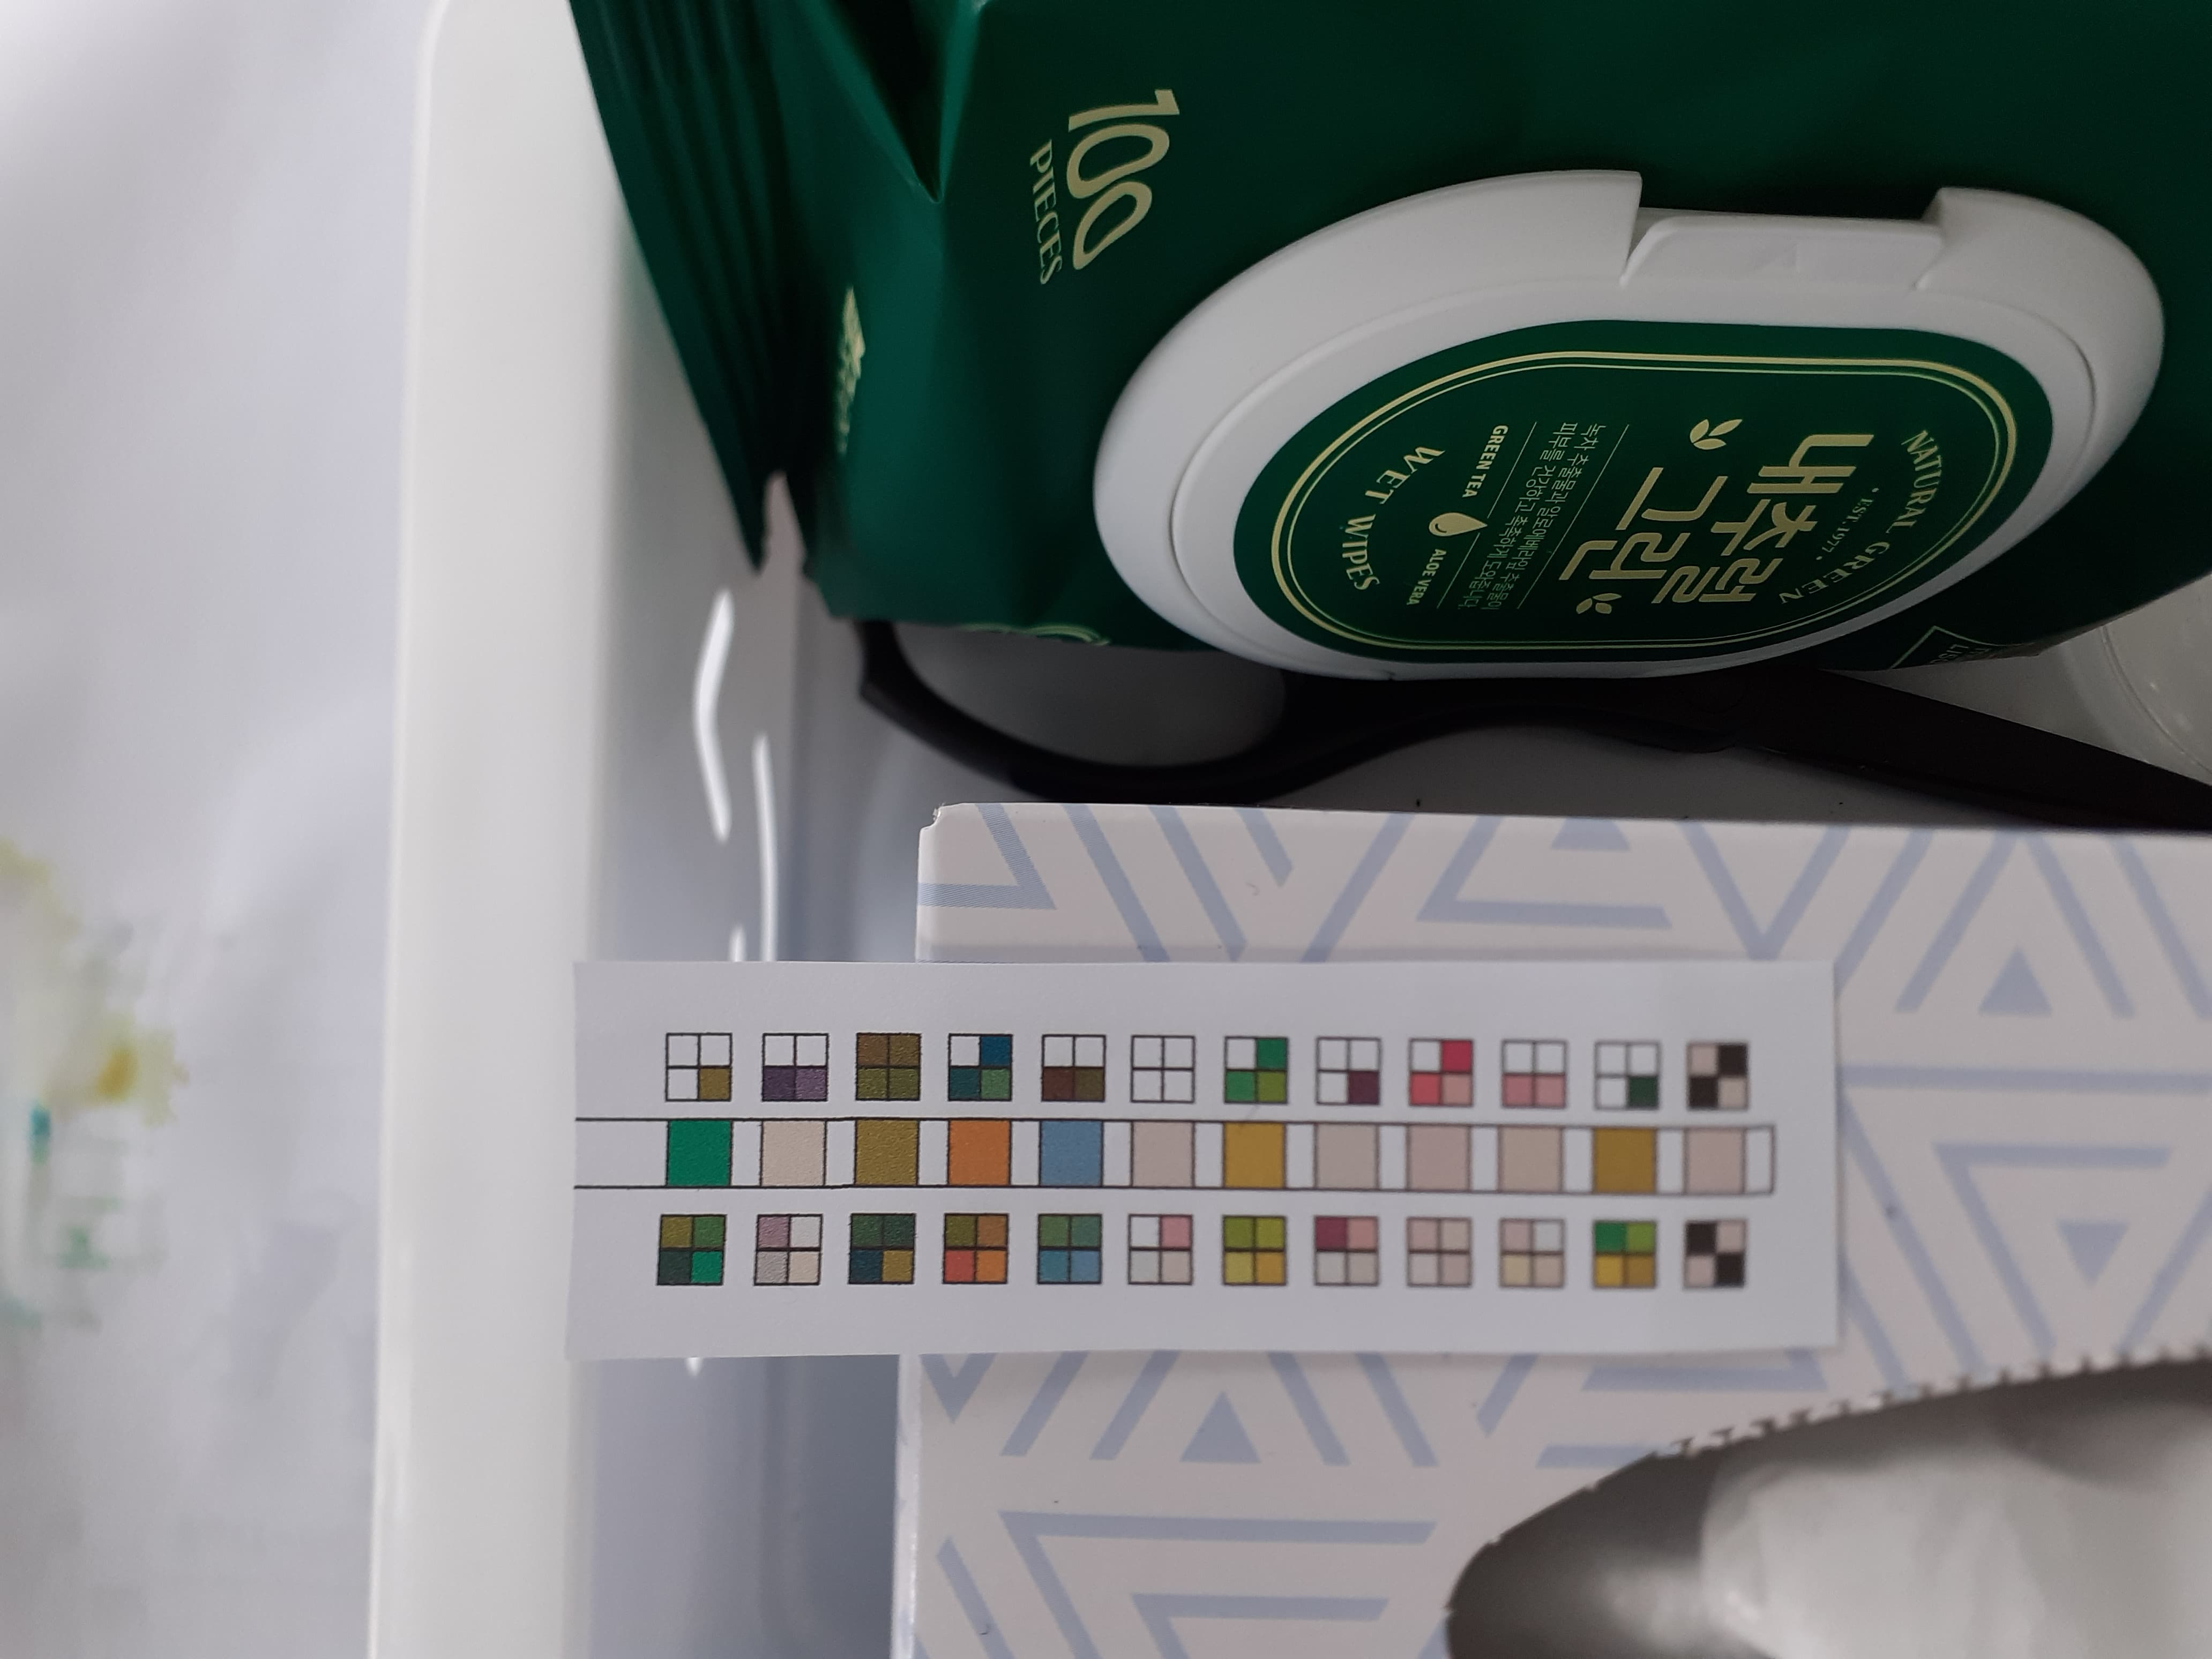tester: (577, 962, 1834, 1351)
